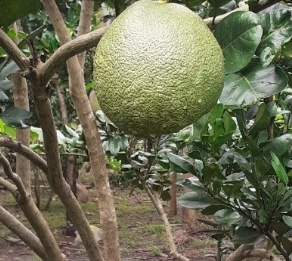Buoi: (90, 10, 218, 144)
